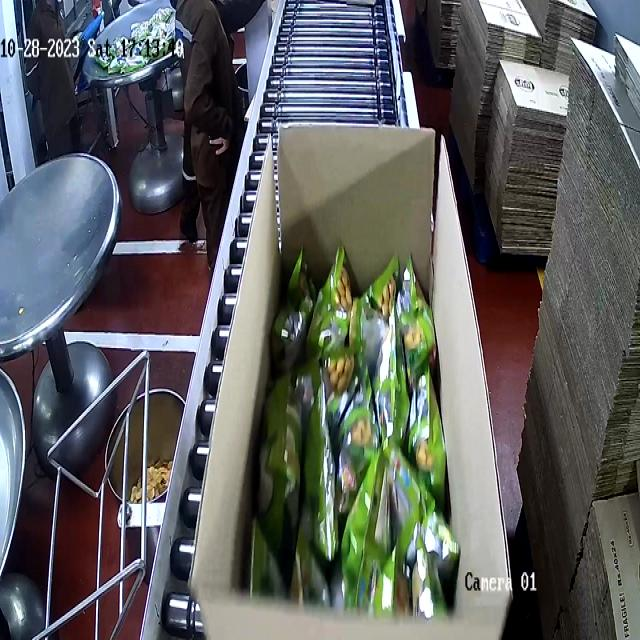YOGURT_HERB: (249, 241, 459, 619)
